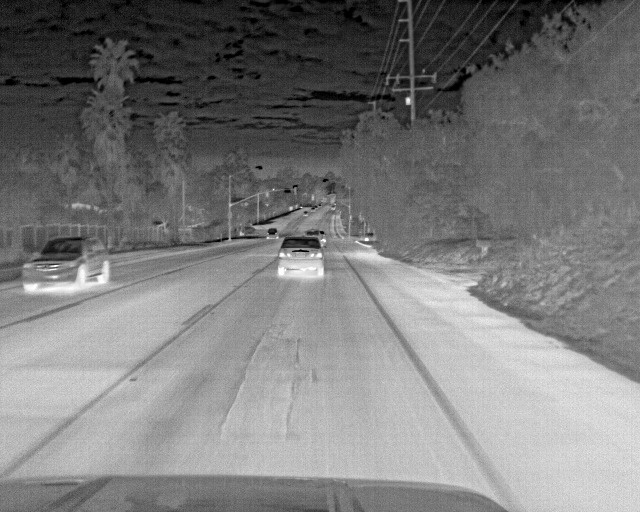vehicle: (23, 234, 114, 293), (277, 237, 326, 276)
